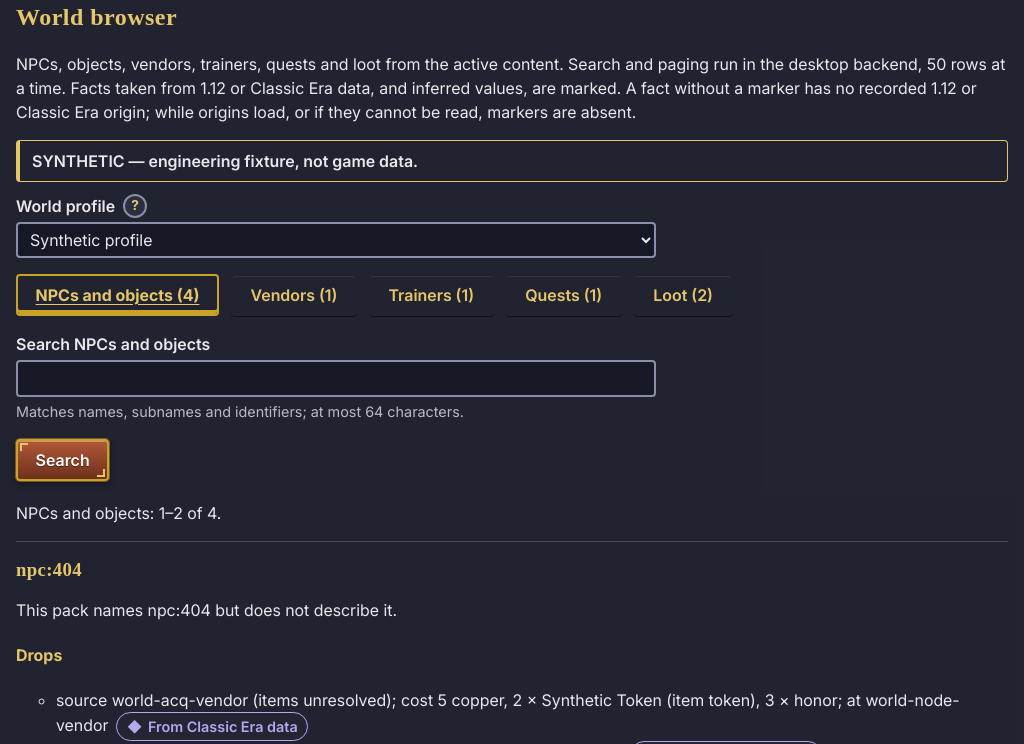
describes unresolved sources, alternative costs and missing objective details
Step 1. Click the button "Vendors (1)" → [294, 295], box [231, 274, 357, 316]
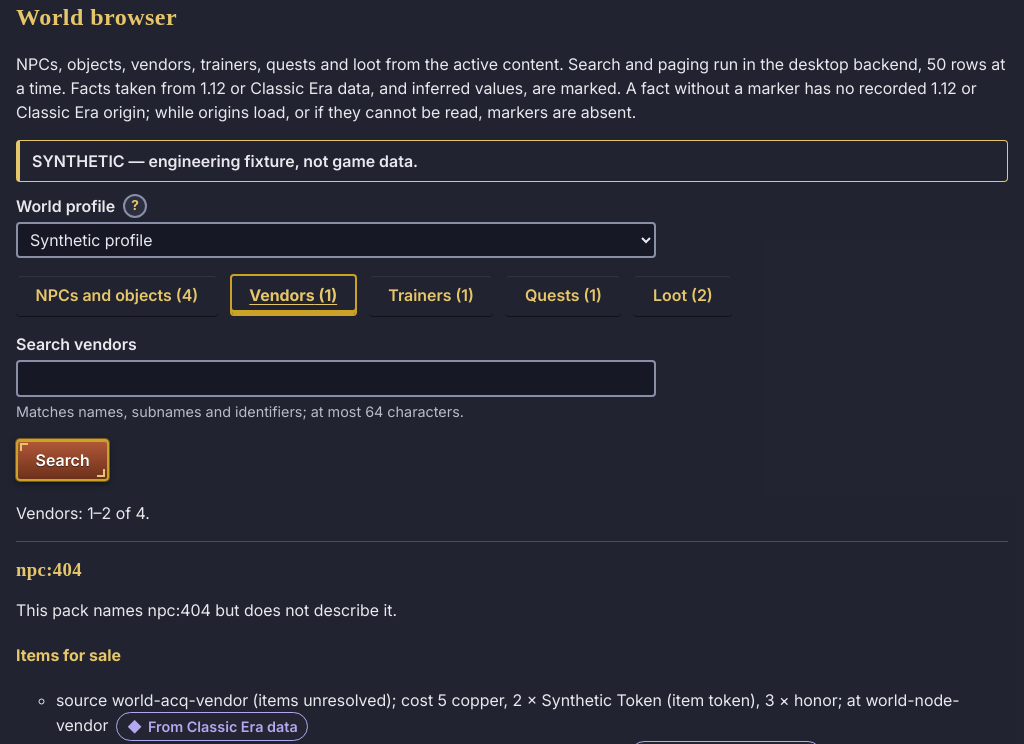
Expected: the text "This pack names npc:404 but does not describe it." is shown, [16, 600, 397, 620]
Expected: the list item "source world-acq-vendor (items unresolved); cost 5 copper, 2 × Synthetic Token (item token), 3 × honor" is shown, [56, 688, 1008, 741]
Step 2. Click the button "Loot (2)" → [683, 295], box [634, 274, 732, 316]
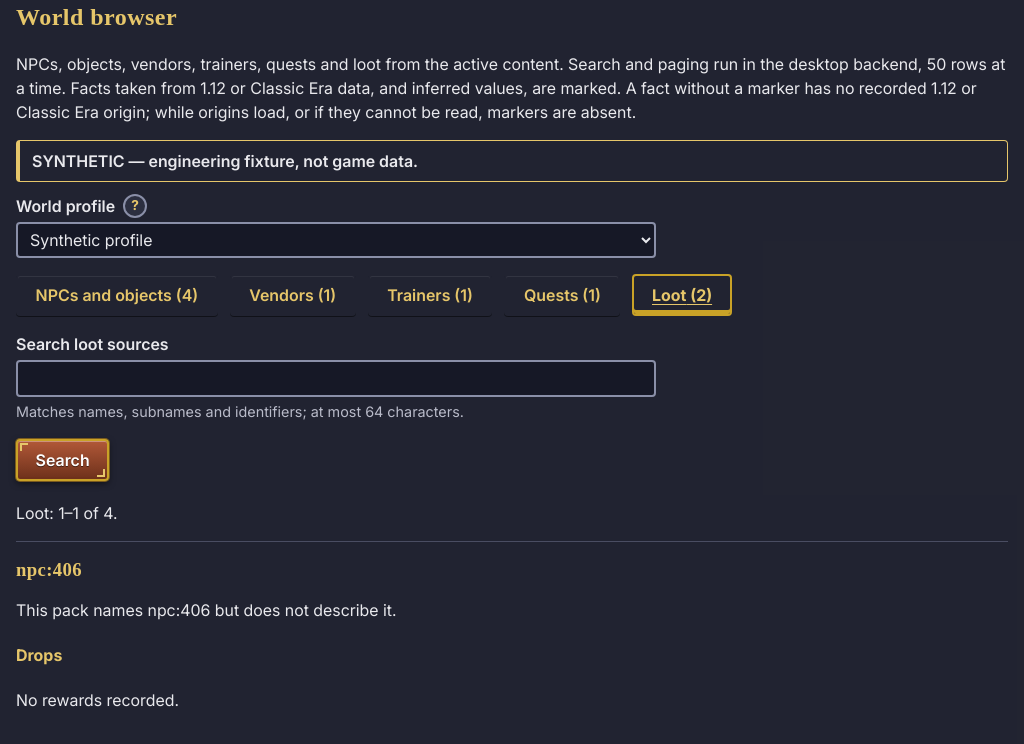
Now the text "No rewards recorded." is shown, box [16, 690, 179, 710]
Step 3. Click the button "Quests (1)" → [562, 295], box [504, 274, 620, 316]
(page scrolled)
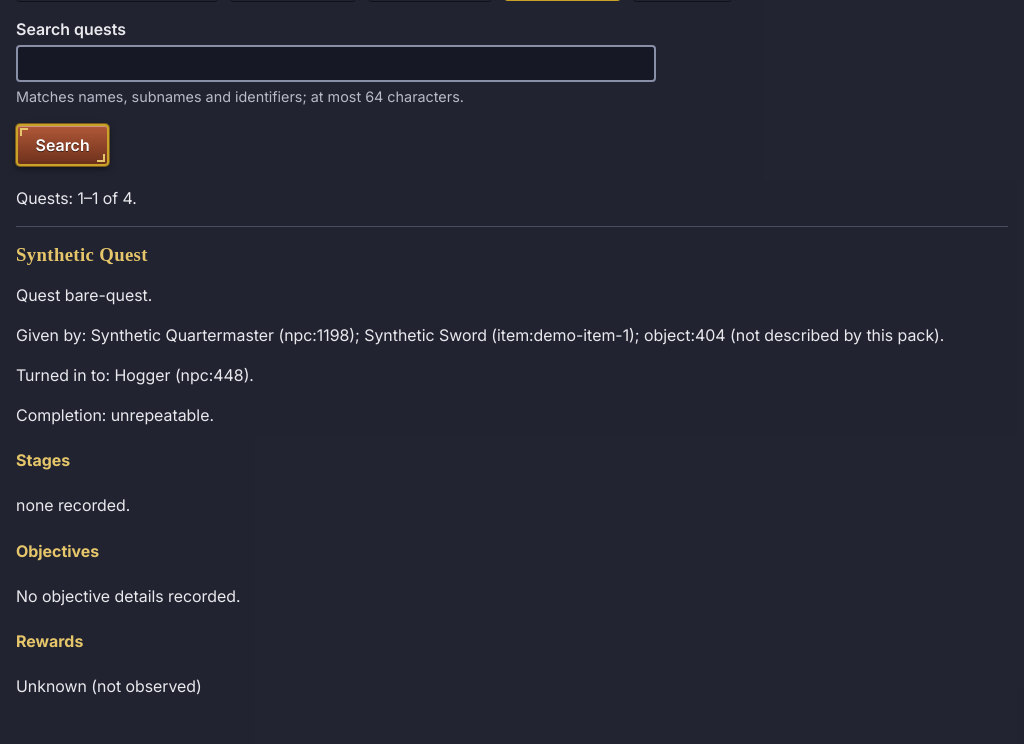
Now the text "No objective details recorded." is shown, box [16, 586, 240, 606]
Now the text "none recorded." is shown, box [16, 495, 130, 515]
Now the text "Unknown (not observed)" is shown, box [16, 676, 202, 696]
